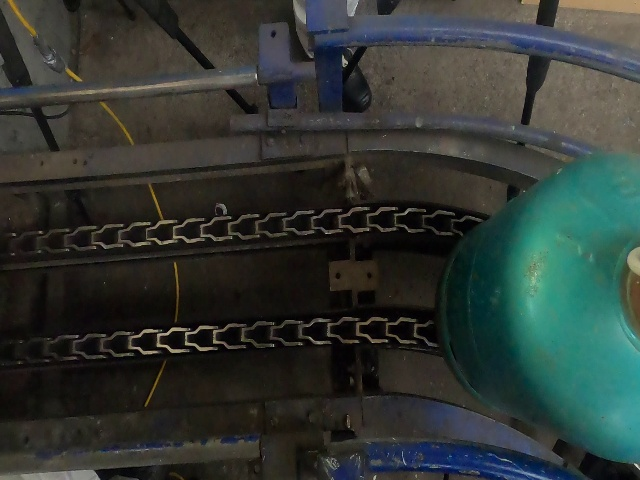gas_bottle: (3, 2, 640, 480)
